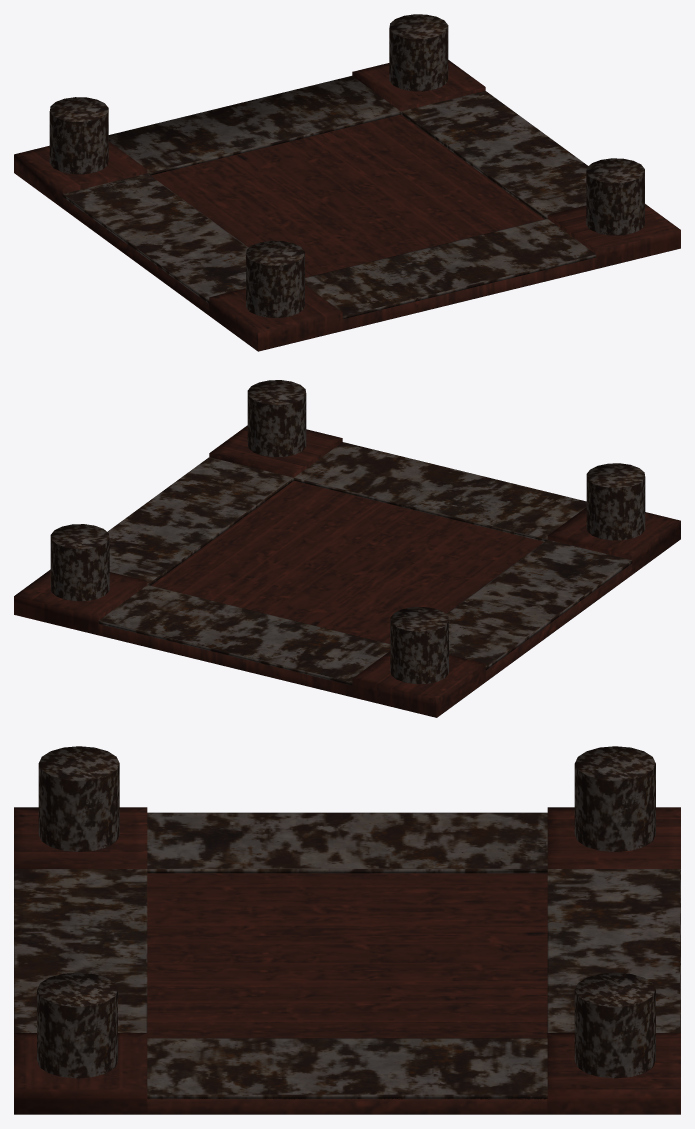
The model's file is Push_Trap.fbx.
3 renders of one model, top to bottom at view 1: azimuth 30°, elevation 25°; view 2: azimuth 150°, elevation 25°; view 3: azimuth 270°, elevation 25°, orthographic. The views are drawn at different scales.
Visible parts, largest first — view 1: Push_Trap_SM, Push_Trap_Metal_Support_SM, Push_Trap_Cilinders_SM.001, Push_Trap_Cilinders_SM, Push_Trap_Cilinders_SM.002, Push_Trap_Cilinders_SM.003; view 2: Push_Trap_SM, Push_Trap_Metal_Support_SM, Push_Trap_Cilinders_SM.003, Push_Trap_Cilinders_SM.001, Push_Trap_Cilinders_SM.002, Push_Trap_Cilinders_SM; view 3: Push_Trap_SM, Push_Trap_Metal_Support_SM, Push_Trap_Cilinders_SM.001, Push_Trap_Cilinders_SM, Push_Trap_Cilinders_SM.003, Push_Trap_Cilinders_SM.002.
Boxes of the visible parts, bbox=[...] form: Push_Trap_SM: bbox=[14, 60, 680, 351]; Push_Trap_Metal_Support_SM: bbox=[62, 76, 596, 318]; Push_Trap_Cilinders_SM.001: bbox=[389, 14, 448, 91]; Push_Trap_Cilinders_SM: bbox=[49, 97, 108, 174]; Push_Trap_Cilinders_SM.002: bbox=[586, 158, 644, 235]; Push_Trap_Cilinders_SM.003: bbox=[246, 240, 304, 317]; Push_Trap_SM: bbox=[14, 425, 680, 717]; Push_Trap_Metal_Support_SM: bbox=[98, 442, 632, 685]; Push_Trap_Cilinders_SM.003: bbox=[586, 463, 645, 540]; Push_Trap_Cilinders_SM.001: bbox=[50, 524, 109, 601]; Push_Trap_Cilinders_SM.002: bbox=[247, 380, 306, 457]; Push_Trap_Cilinders_SM: bbox=[390, 607, 448, 683]; Push_Trap_SM: bbox=[14, 807, 680, 1114]; Push_Trap_Metal_Support_SM: bbox=[14, 812, 680, 1099]; Push_Trap_Cilinders_SM.001: bbox=[574, 972, 655, 1078]; Push_Trap_Cilinders_SM: bbox=[574, 746, 655, 851]; Push_Trap_Cilinders_SM.003: bbox=[38, 746, 119, 851]; Push_Trap_Cilinders_SM.002: bbox=[37, 972, 117, 1078].
Bounding box in the file's own units: 330 × 52.92 × 330.
Materials: 3 (3 with a texture image).
